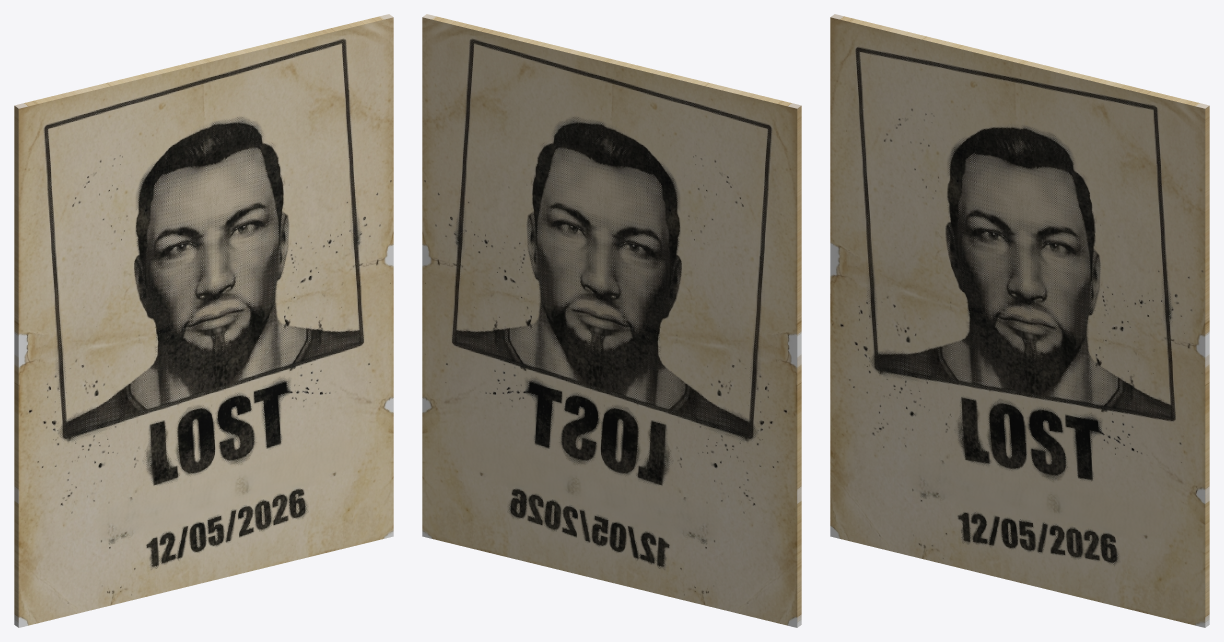
Rendered from Cartel de Desaparecido 4.fbx.
3 renders of one model, left to right at view 1: azimuth 30°, elevation 25°; view 2: azimuth 150°, elevation 25°; view 3: azimuth 330°, elevation 25°, orthographic.
Parts seen in each view (by area): view 1: Plane001; view 2: Plane001; view 3: Plane001.
Part boxes in pixels (left/top/right/bottom): Plane001: left=14, top=14, right=393, bottom=627; Plane001: left=422, top=14, right=801, bottom=627; Plane001: left=830, top=14, right=1209, bottom=627.
Size of the model in its own units: 6.8 by 9 by 0.1397.
